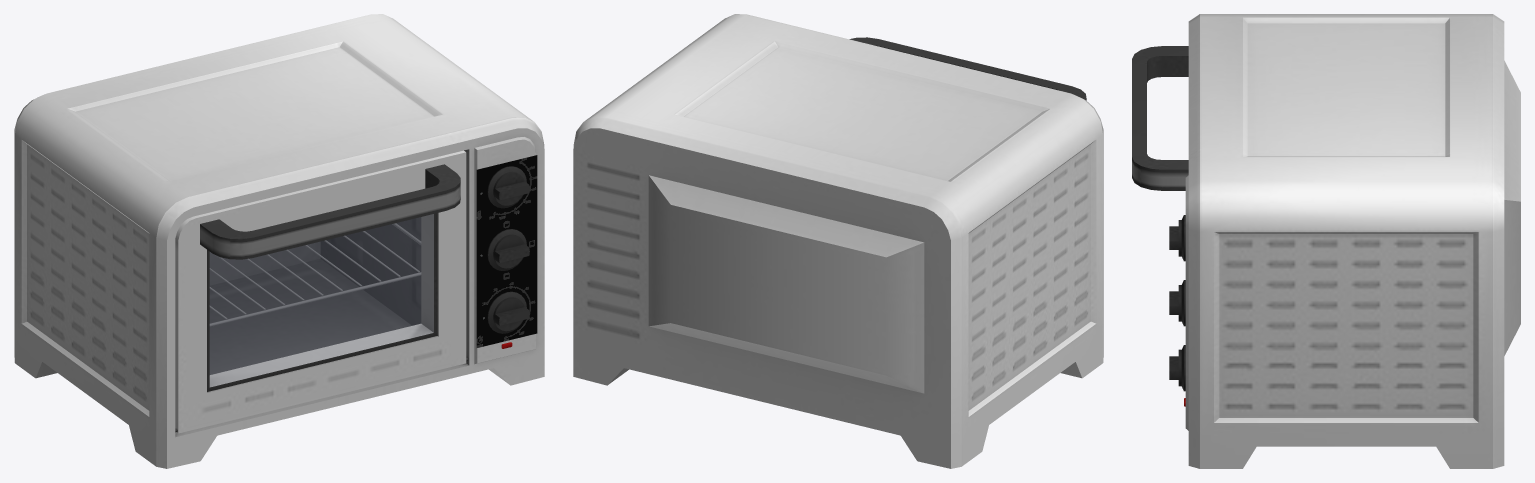
The model's file is small-oven.obj.
3 renders of one model, left to right at view 1: azimuth 30°, elevation 25°; view 2: azimuth 150°, elevation 25°; view 3: azimuth 270°, elevation 25°, orthographic. The views are drawn at different scales.
Visible parts, largest first — view 1: oven_Cube.001, sweethome3d_opening_on_hinge_1_door_Cube.007, sweethome3d_opening_on_hinge_1_externalglass_Cube.004, sweethome3d_opening_on_hinge_1_internalglass_Cube.005, metal-inside_Cube.010, sweethome3d_opening_on_hinge_1_handle_Cube.008, controls, grill_Cylinder.004; view 2: oven_Cube.001, sweethome3d_opening_on_hinge_1_handle_Cube.008; view 3: oven_Cube.001, sweethome3d_opening_on_hinge_1_handle_Cube.008.
Part boxes in pixels (x1,y1,x2,y2): oven_Cube.001: [14, 14, 544, 468]; sweethome3d_opening_on_hinge_1_door_Cube.007: [175, 150, 466, 433]; sweethome3d_opening_on_hinge_1_externalglass_Cube.004: [210, 214, 433, 386]; sweethome3d_opening_on_hinge_1_internalglass_Cube.005: [210, 218, 420, 374]; metal-inside_Cube.010: [209, 217, 421, 374]; sweethome3d_opening_on_hinge_1_handle_Cube.008: [200, 164, 460, 259]; controls: [476, 155, 537, 347]; grill_Cylinder.004: [209, 223, 421, 326]; oven_Cube.001: [573, 14, 1103, 468]; sweethome3d_opening_on_hinge_1_handle_Cube.008: [849, 37, 1086, 100]; oven_Cube.001: [1169, 14, 1520, 468]; sweethome3d_opening_on_hinge_1_handle_Cube.008: [1132, 46, 1188, 190].
Size of the model in its own units: 56.4 by 36.4 by 47.26.
